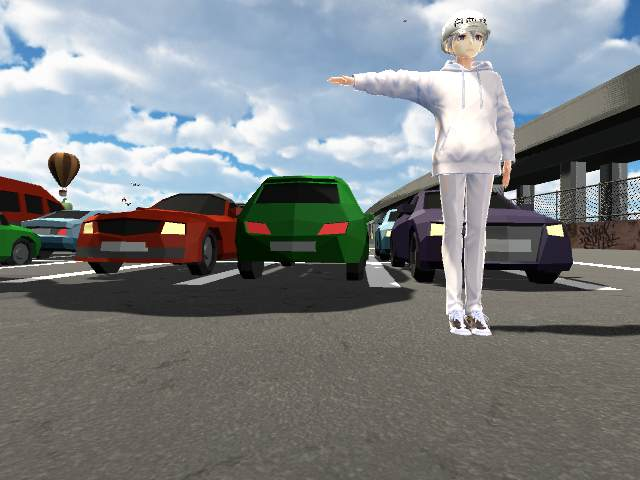singleP_left: (325, 9, 515, 336)
